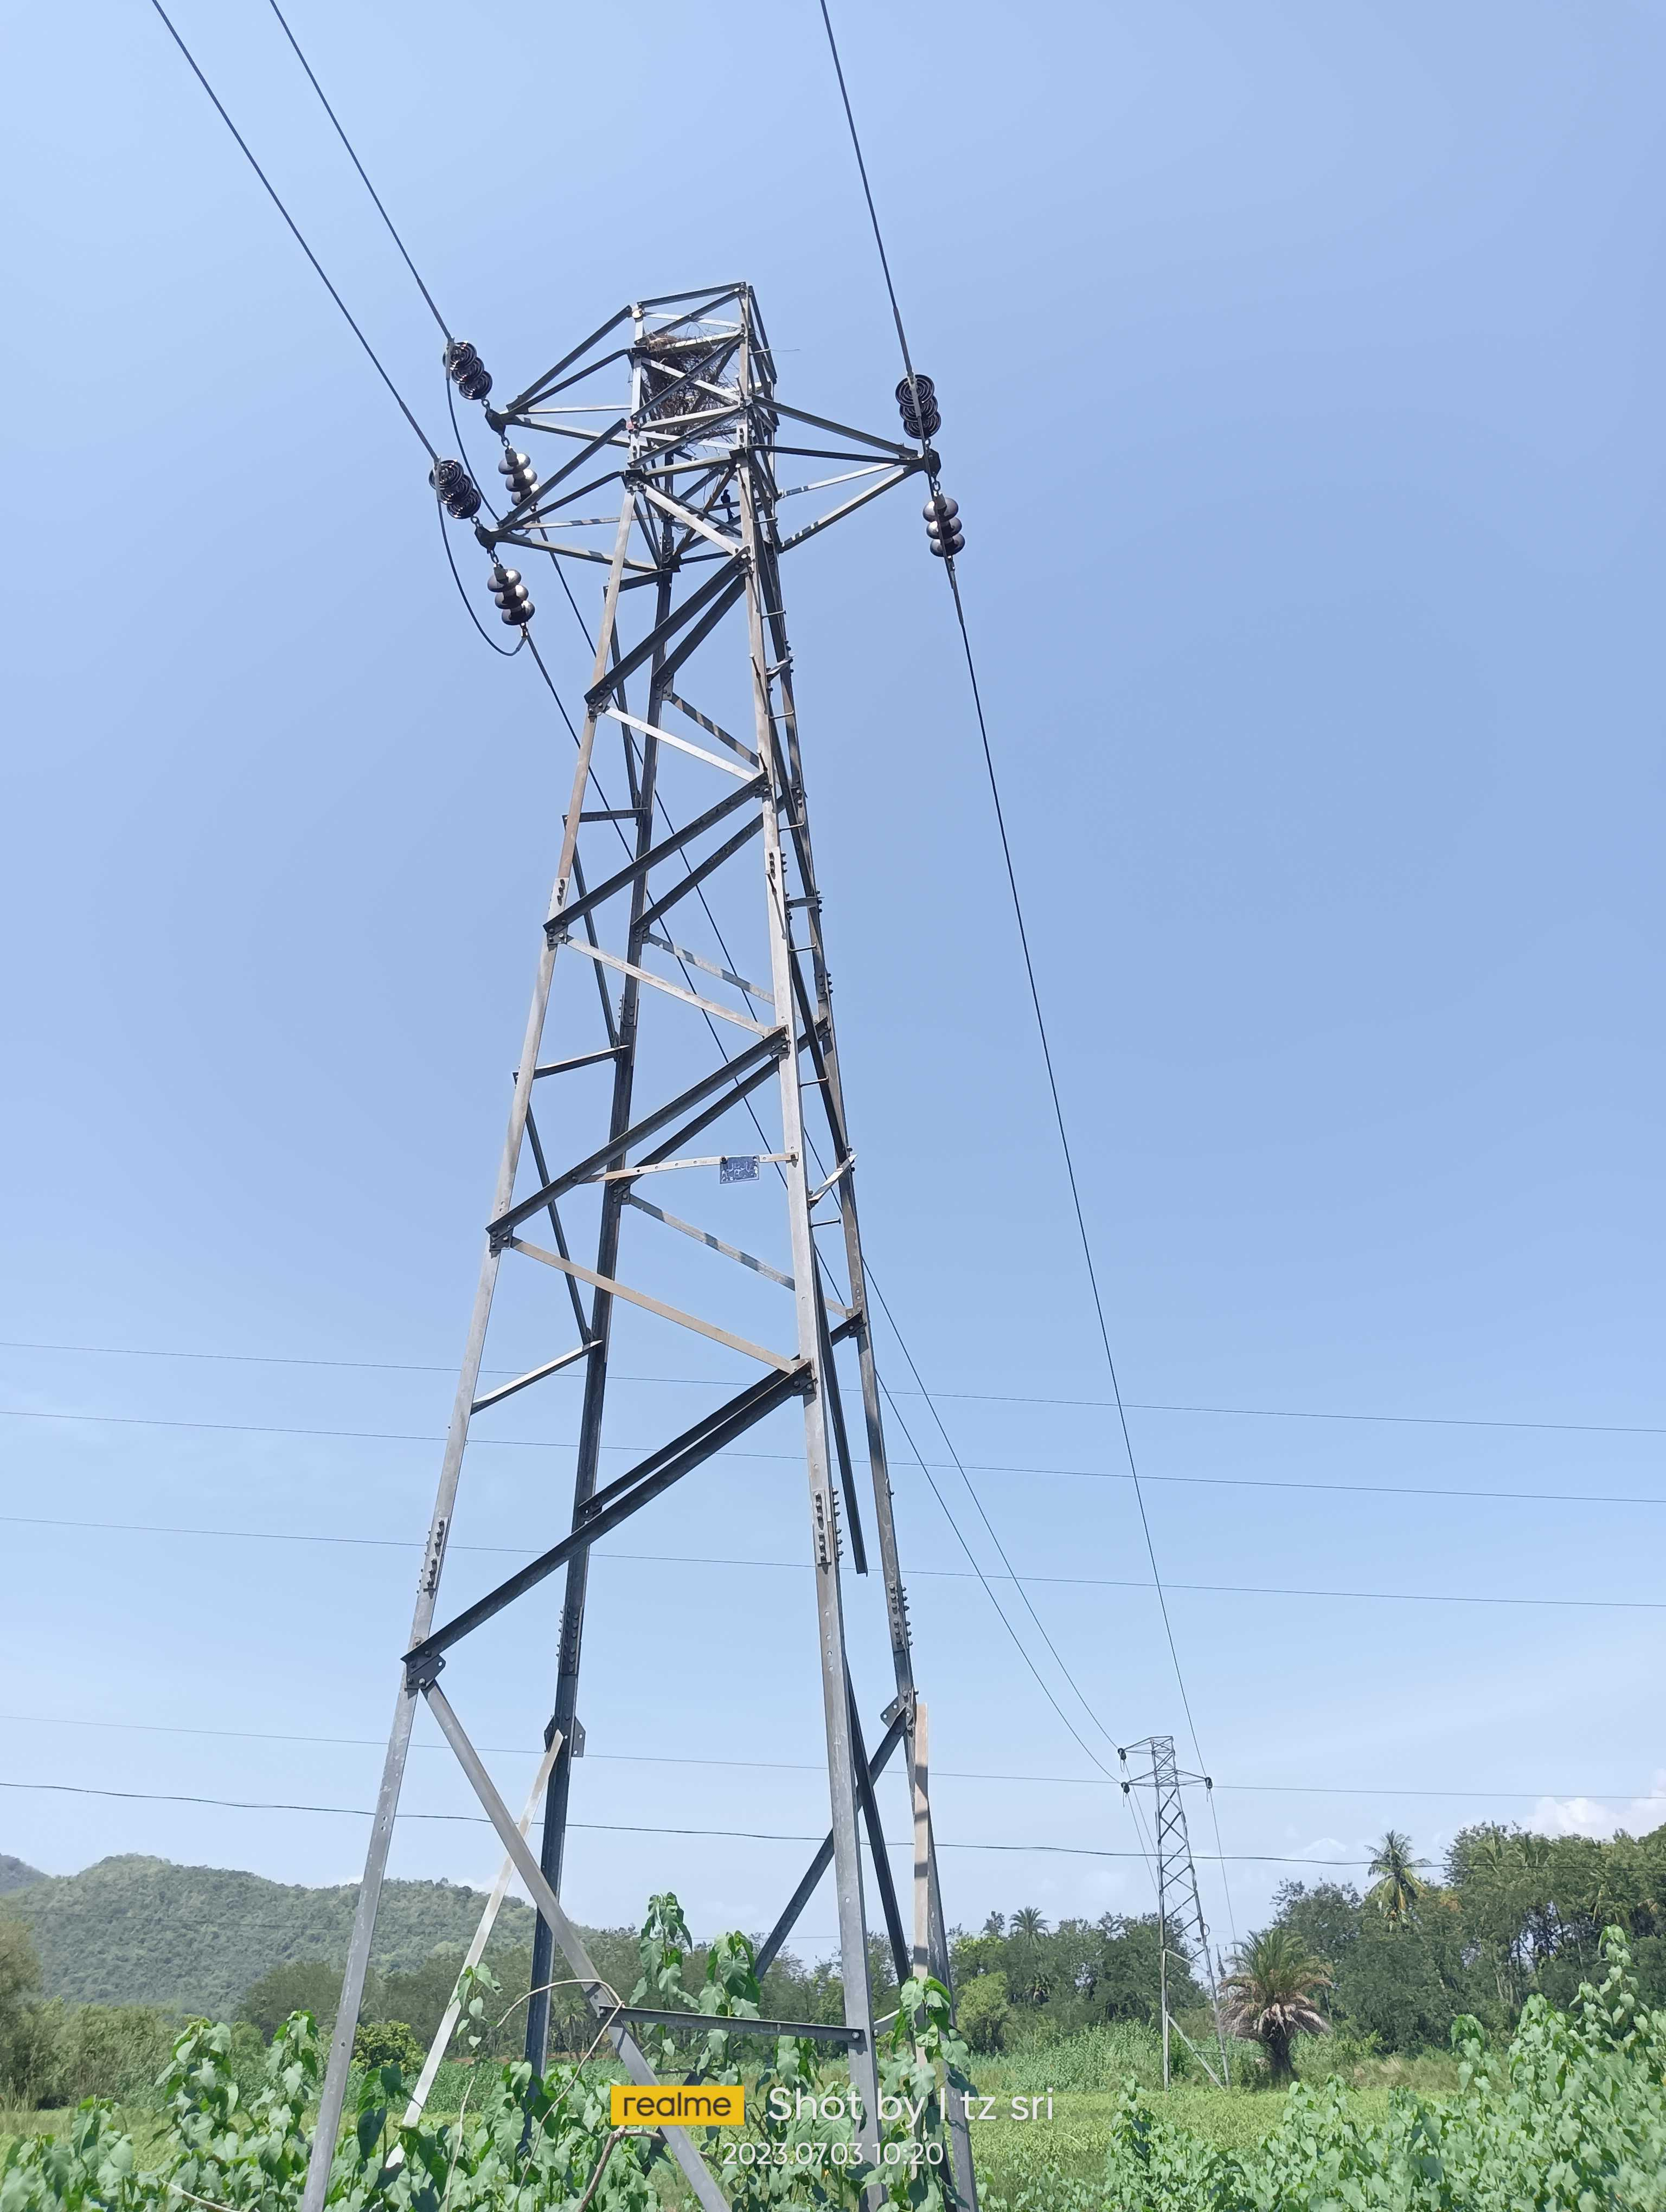GSM Antenna: (326, 268, 966, 1984)
